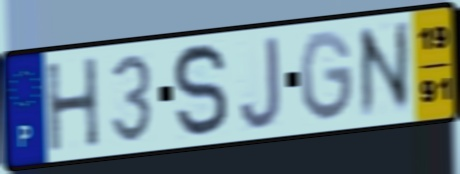3: (106, 51, 155, 146)
G: (297, 28, 356, 125)
H: (43, 54, 103, 156)
J: (237, 33, 284, 133)
N: (354, 17, 415, 123)
S: (170, 39, 232, 142)
